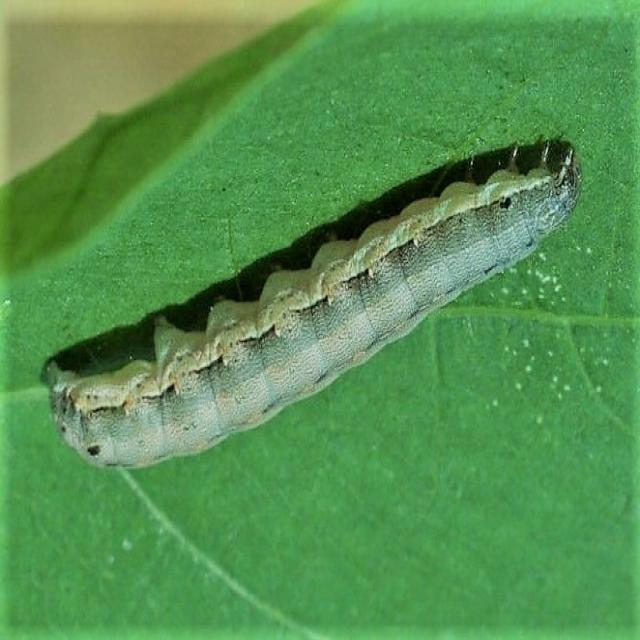armyworm: (40, 134, 582, 471)
